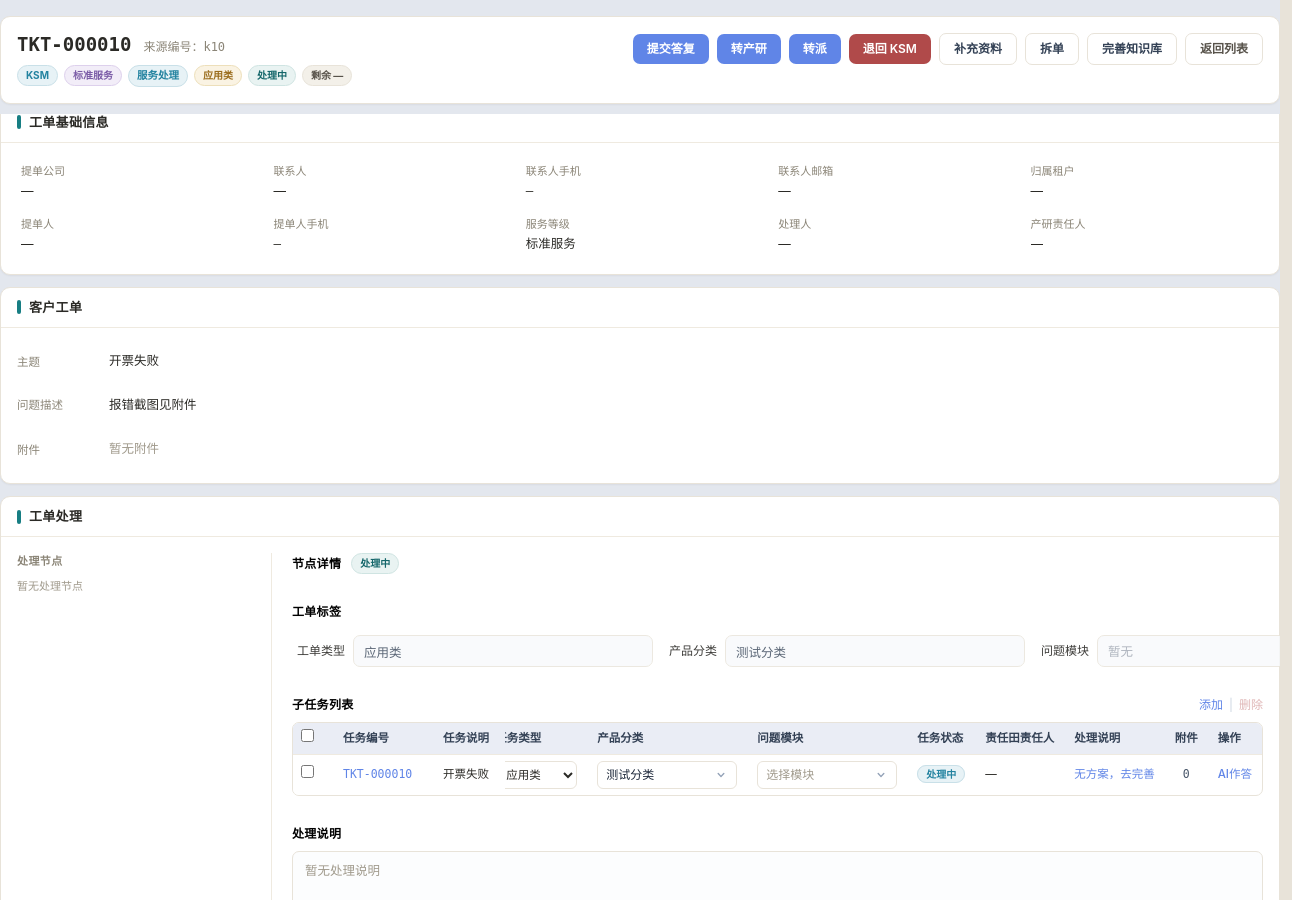
Scenario: TicketDetailPage 出站回写失败横幅 › 子任务列表中的产品分类与问题模块下拉框在顶层展示（Portal 至 document.body 且 z-index 9999）
Expected: the button "AI作答" is shown, x1=1218 y1=766 x2=1252 y2=783
// 点击子任务列表的产品分类下拉
Click the button with aria-label "子任务产品分类" at (667, 775), box x1=597 y1=761 x2=737 y2=789
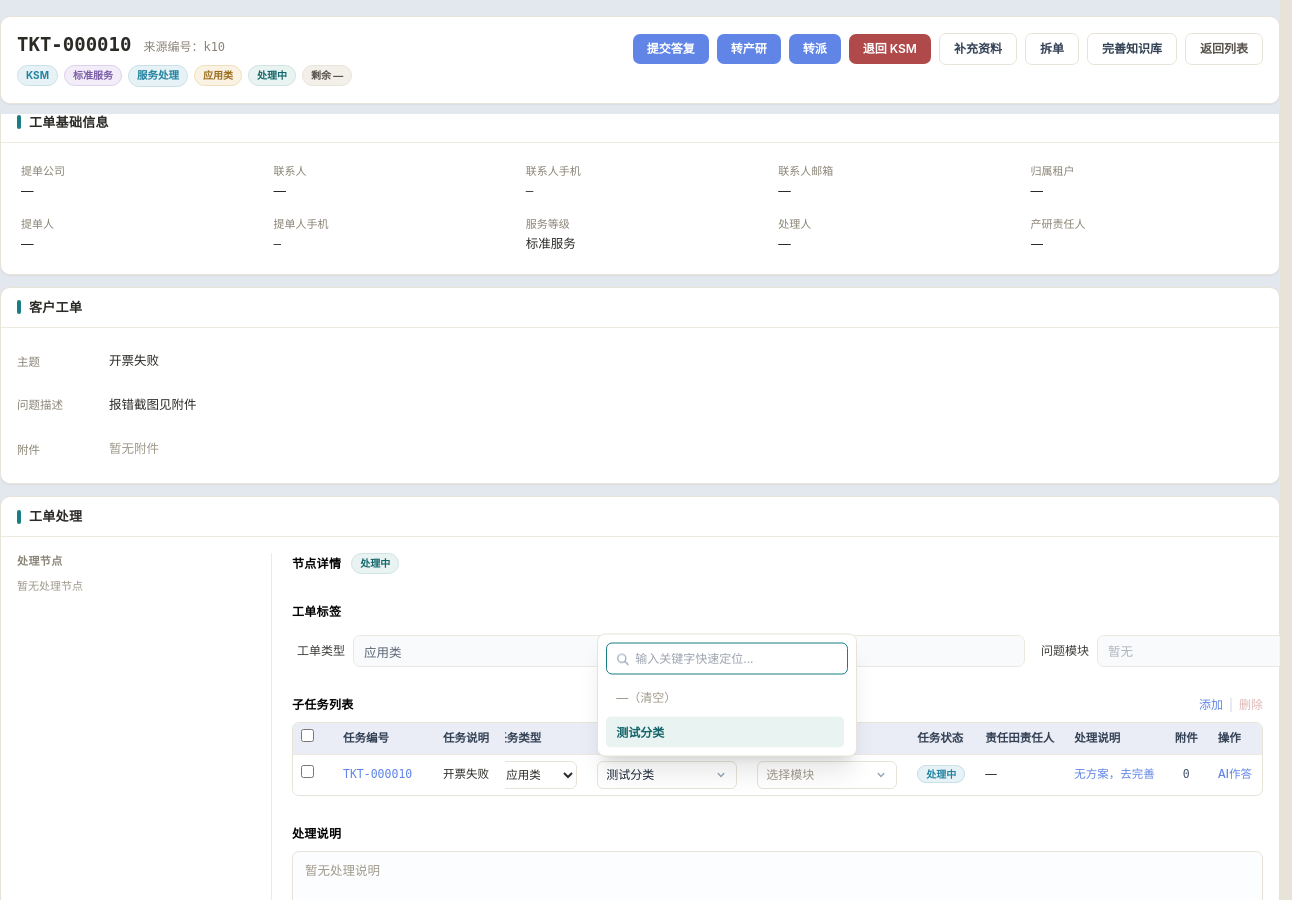
Result: the 1st button "测试分类" is shown
Result: the element "测试分类" is shown at x1=597 y1=633 x2=857 y2=757
Click the 1st button "测试分类" at (725, 732), box x1=606 y1=716 x2=844 y2=748
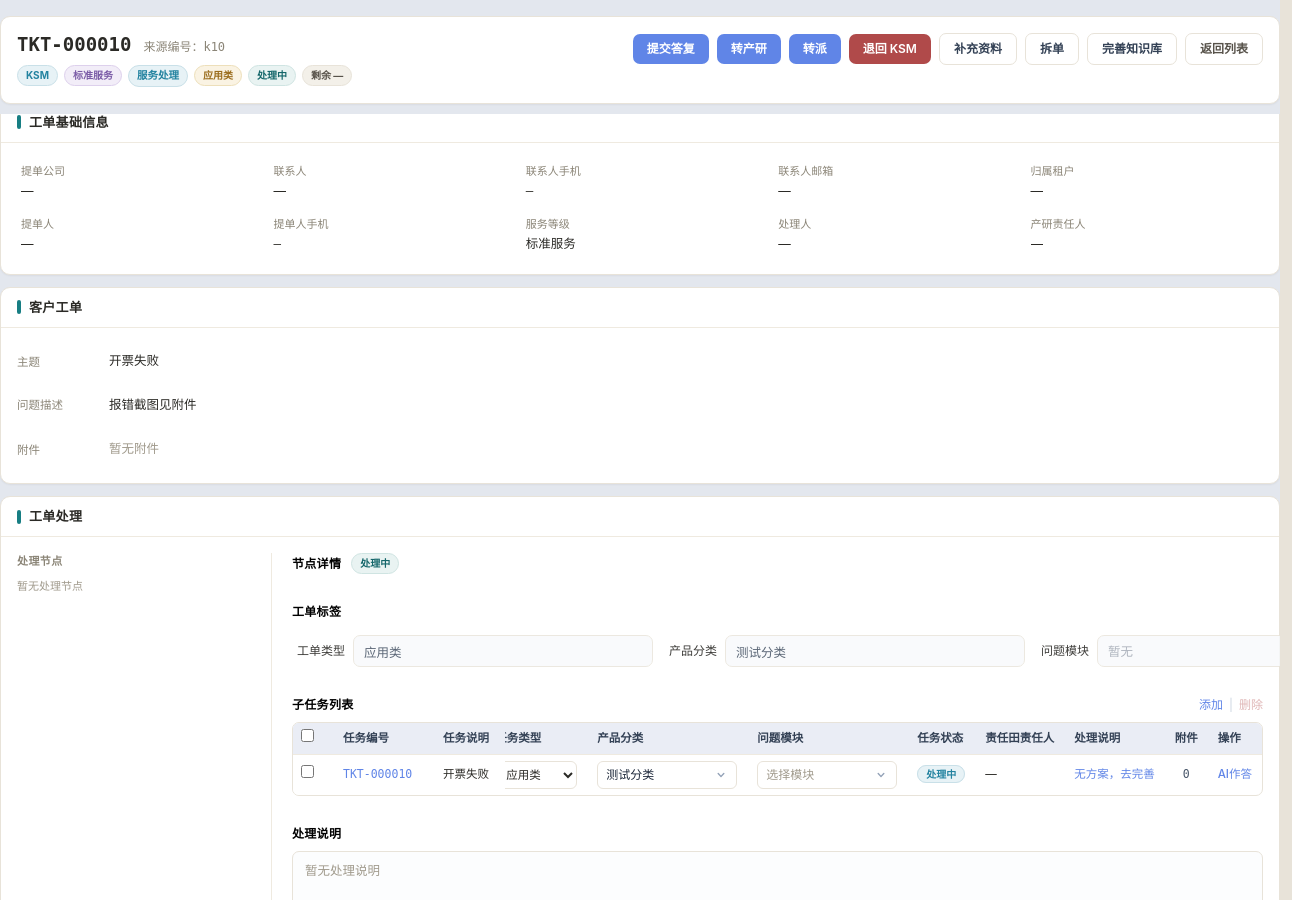
// 点击子任务问题模块下拉
Click the button with aria-label "子任务问题模块" at (827, 775), box x1=757 y1=761 x2=897 y2=789
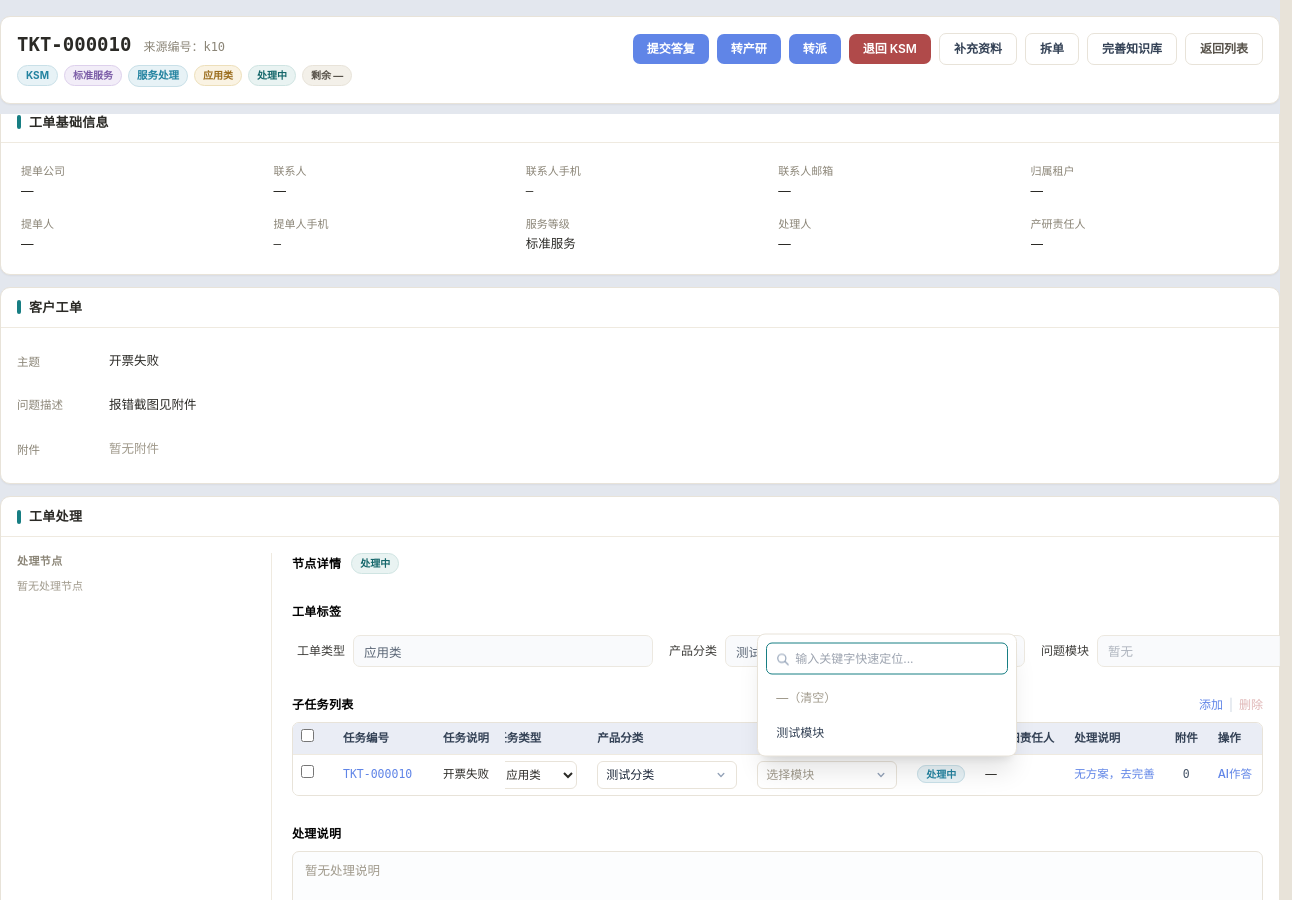
Result: the button "测试模块" is shown at x1=766 y1=716 x2=1004 y2=748
Result: the element "测试模块" is shown at x1=757 y1=633 x2=1017 y2=757
